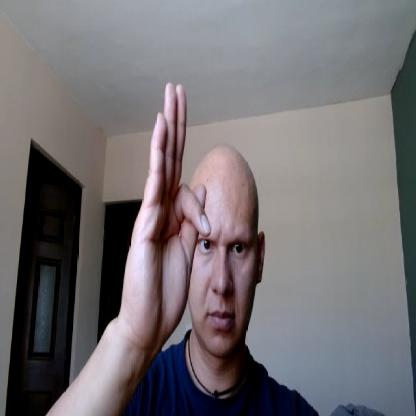F: (122, 79, 210, 342)
